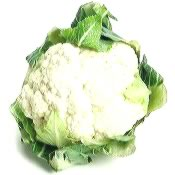cauliflower: (8, 0, 168, 172)
